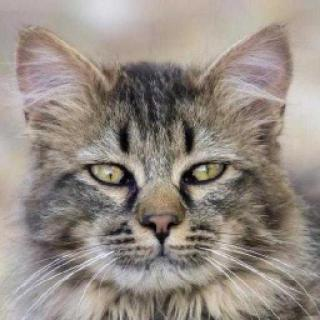cat: (10, 20, 294, 293)
nose: (138, 192, 184, 245)
